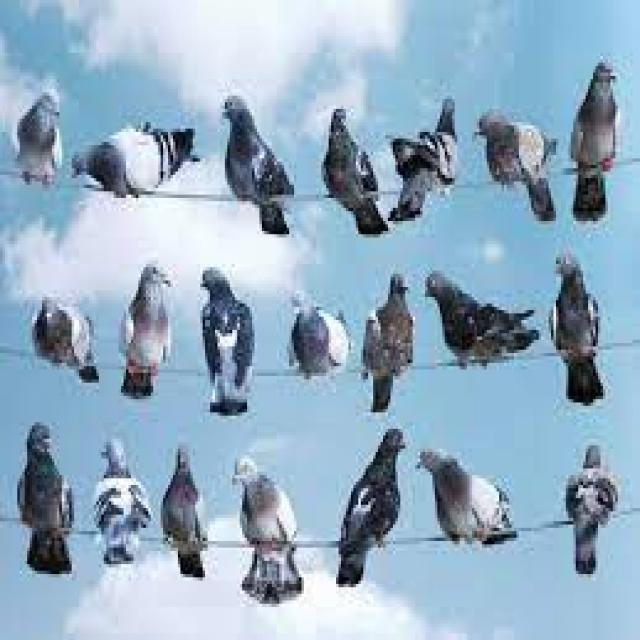bird: (199, 79, 310, 257), (376, 70, 474, 248), (215, 444, 319, 606), (421, 250, 540, 390), (410, 430, 528, 570), (323, 416, 412, 600), (308, 65, 392, 258), (6, 392, 85, 590), (183, 251, 269, 429), (538, 237, 622, 419), (562, 28, 634, 236), (469, 92, 571, 238), (541, 422, 630, 584), (70, 98, 202, 206), (80, 412, 160, 588), (106, 239, 186, 411), (152, 427, 229, 602), (351, 257, 425, 429), (280, 264, 364, 399), (18, 274, 106, 392), (5, 77, 67, 213)
